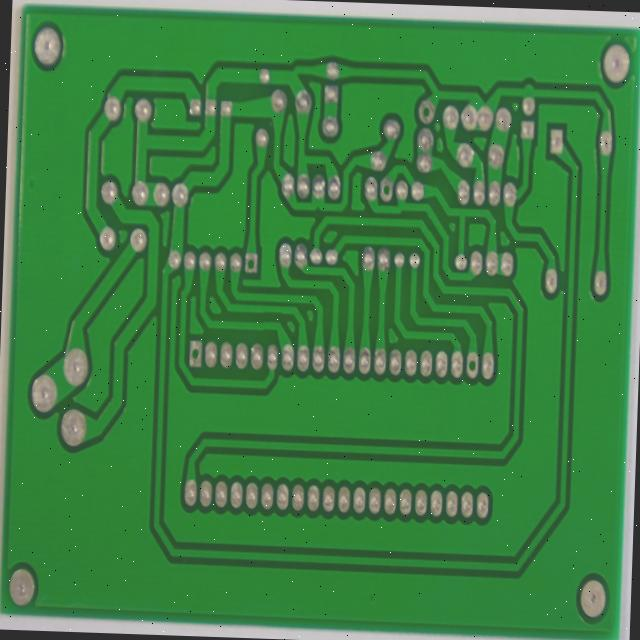missing_hole: (198, 413, 220, 452), (500, 425, 520, 466), (408, 212, 429, 250), (261, 305, 281, 337), (452, 121, 473, 151)
